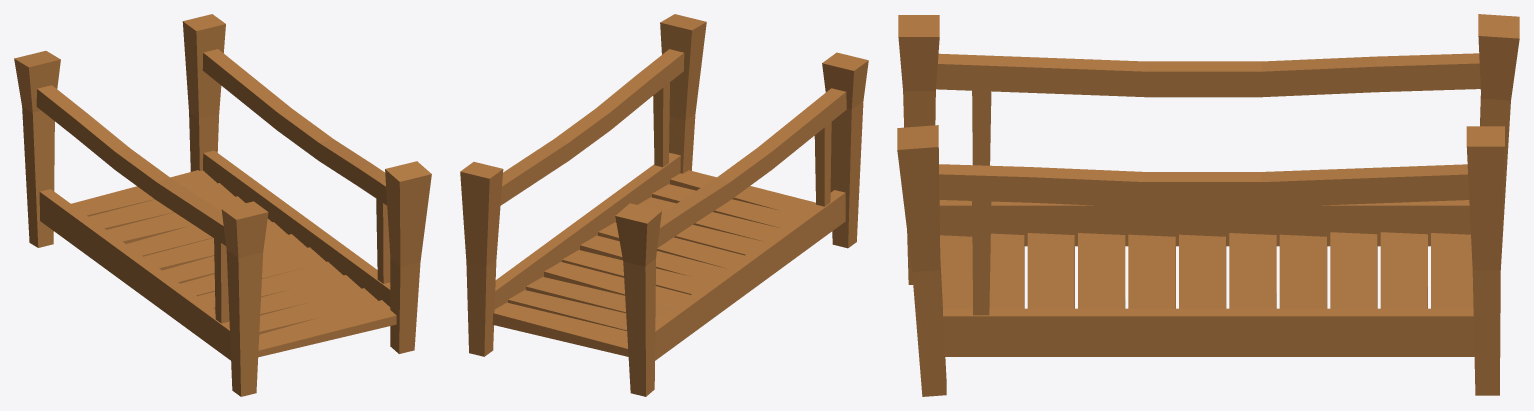
The model's file is USE.fbx.
3 views of the same model, side by side, from view 1: azimuth 30°, elevation 25°; view 2: azimuth 150°, elevation 25°; view 3: azimuth 270°, elevation 25° (orthographic). The views are drawn at different scales.
Parts seen in each view (by area): view 1: Bridge_04; view 2: Bridge_04; view 3: Bridge_04.
Boxes of the visible parts, x1,y1,x2,y2 form: Bridge_04: (14, 14, 431, 396); Bridge_04: (460, 14, 868, 396); Bridge_04: (897, 14, 1519, 396).
Bounding box in the file's own units: 215 × 193 × 425.
